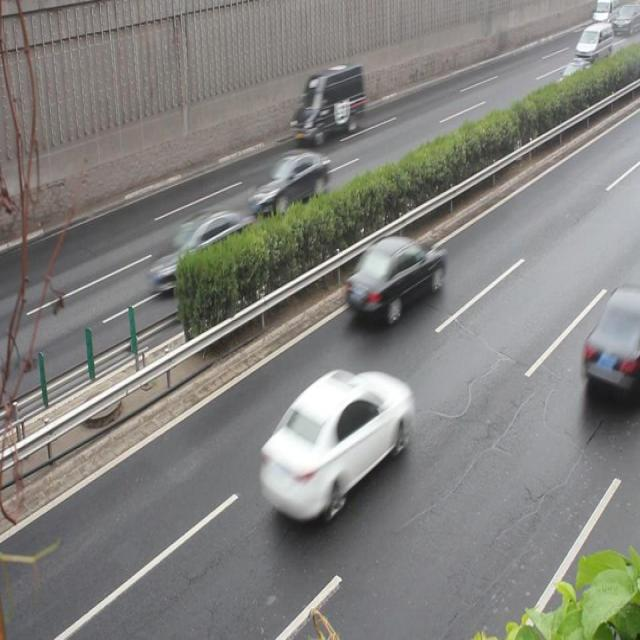car: (259, 368, 412, 522), (148, 208, 262, 302), (344, 233, 443, 325), (578, 280, 640, 392), (248, 150, 331, 217)
truck: (288, 60, 362, 145)
